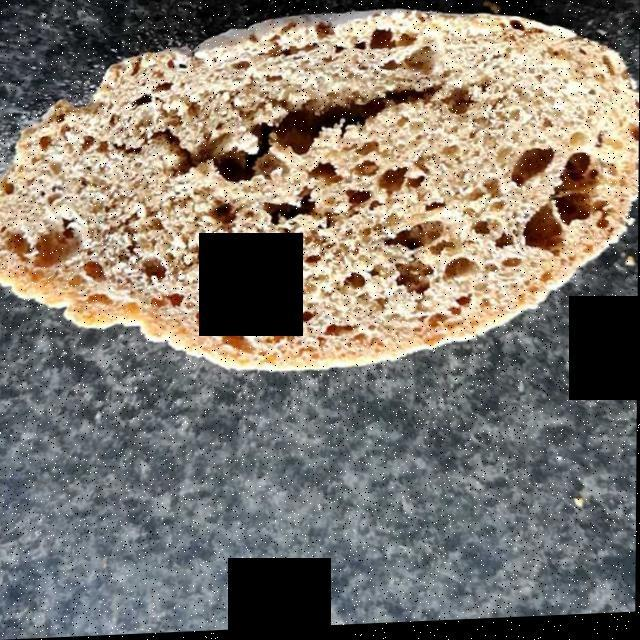bread: (5, 15, 629, 371)
